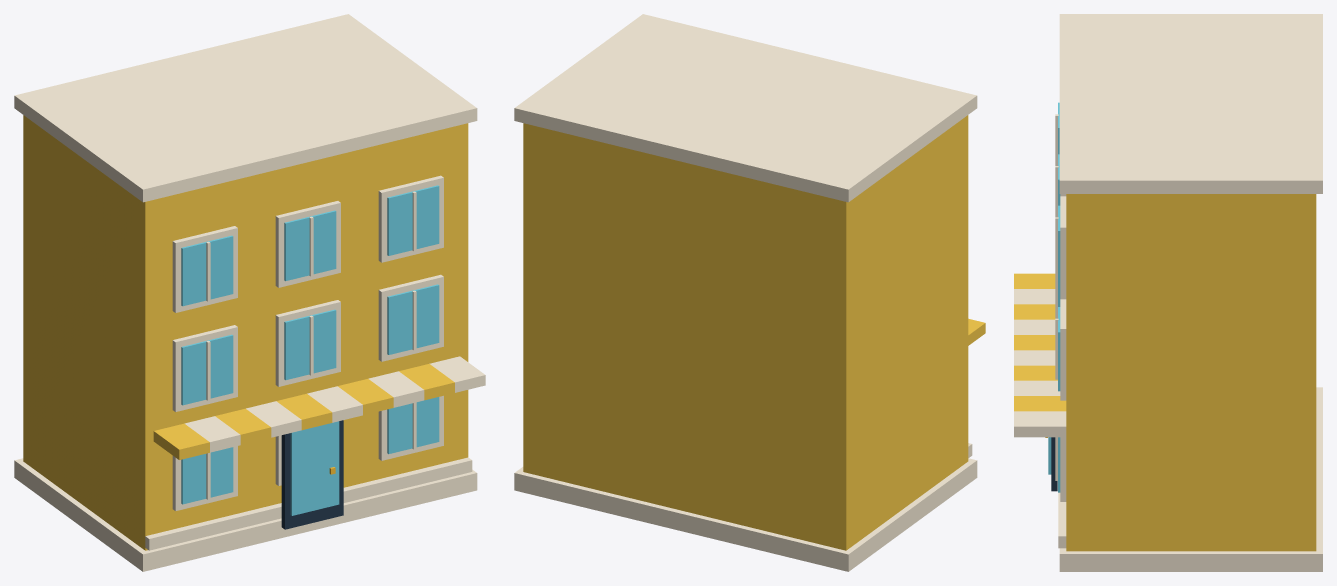
The model's file is 06_shop_yellow.obj.
3 renders of one model, left to right at view 1: azimuth 30°, elevation 25°; view 2: azimuth 150°, elevation 25°; view 3: azimuth 270°, elevation 25°, orthographic. The views are drawn at different scales.
Parts seen in each view (by area): view 1: part_1, part_2, part_0, part_3, part_42, part_23, part_14, part_20, part_26, part_29, part_17, part_11 (+20 smaller); view 2: part_1, part_2, part_0; view 3: part_1, part_2, part_0, part_40, part_39, part_28, part_38, part_19, part_37, part_33, part_36, part_31 (+5 smaller).
Part boxes in pixels (x1,y1,x2,y2): part_1: (23, 115, 468, 550); part_2: (14, 14, 477, 202); part_0: (14, 458, 477, 571); part_3: (145, 457, 472, 550); part_42: (290, 421, 339, 515); part_23: (181, 235, 233, 306); part_14: (181, 334, 233, 405); part_20: (387, 284, 439, 354); part_26: (284, 210, 336, 281); part_29: (387, 185, 439, 255); part_17: (284, 309, 336, 380); part_11: (387, 397, 439, 454); part_1: (523, 115, 968, 550); part_2: (514, 14, 977, 202); part_0: (514, 458, 977, 571); part_1: (1066, 194, 1316, 551); part_2: (1059, 14, 1322, 193); part_0: (1059, 387, 1322, 571); part_40: (1014, 411, 1066, 437); part_39: (1014, 396, 1066, 411); part_28: (1060, 196, 1066, 299); part_38: (1014, 380, 1060, 395); part_19: (1060, 299, 1066, 400); part_37: (1014, 365, 1057, 380); part_33: (1014, 304, 1055, 319); part_36: (1014, 350, 1055, 365); part_31: (1014, 273, 1055, 288).
Bounding box in the file's own units: 6 × 6.56 × 4.7.
